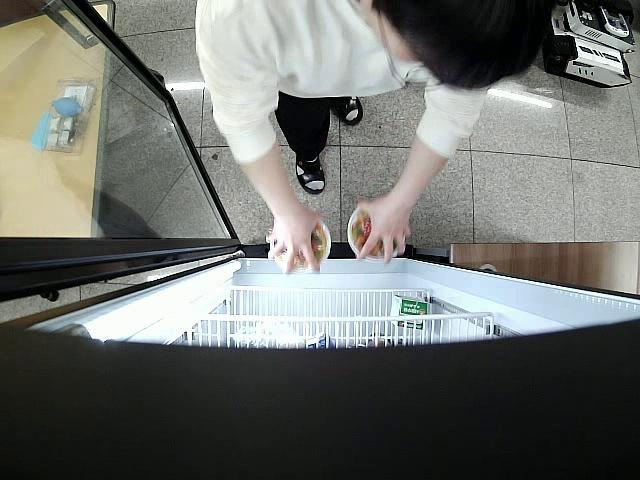09_yukGaeJang: (270, 220, 330, 271), (348, 210, 406, 261)
